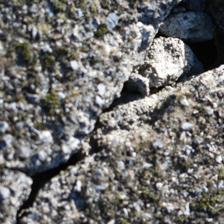Crack: (35, 54, 140, 160), (0, 139, 146, 196)
